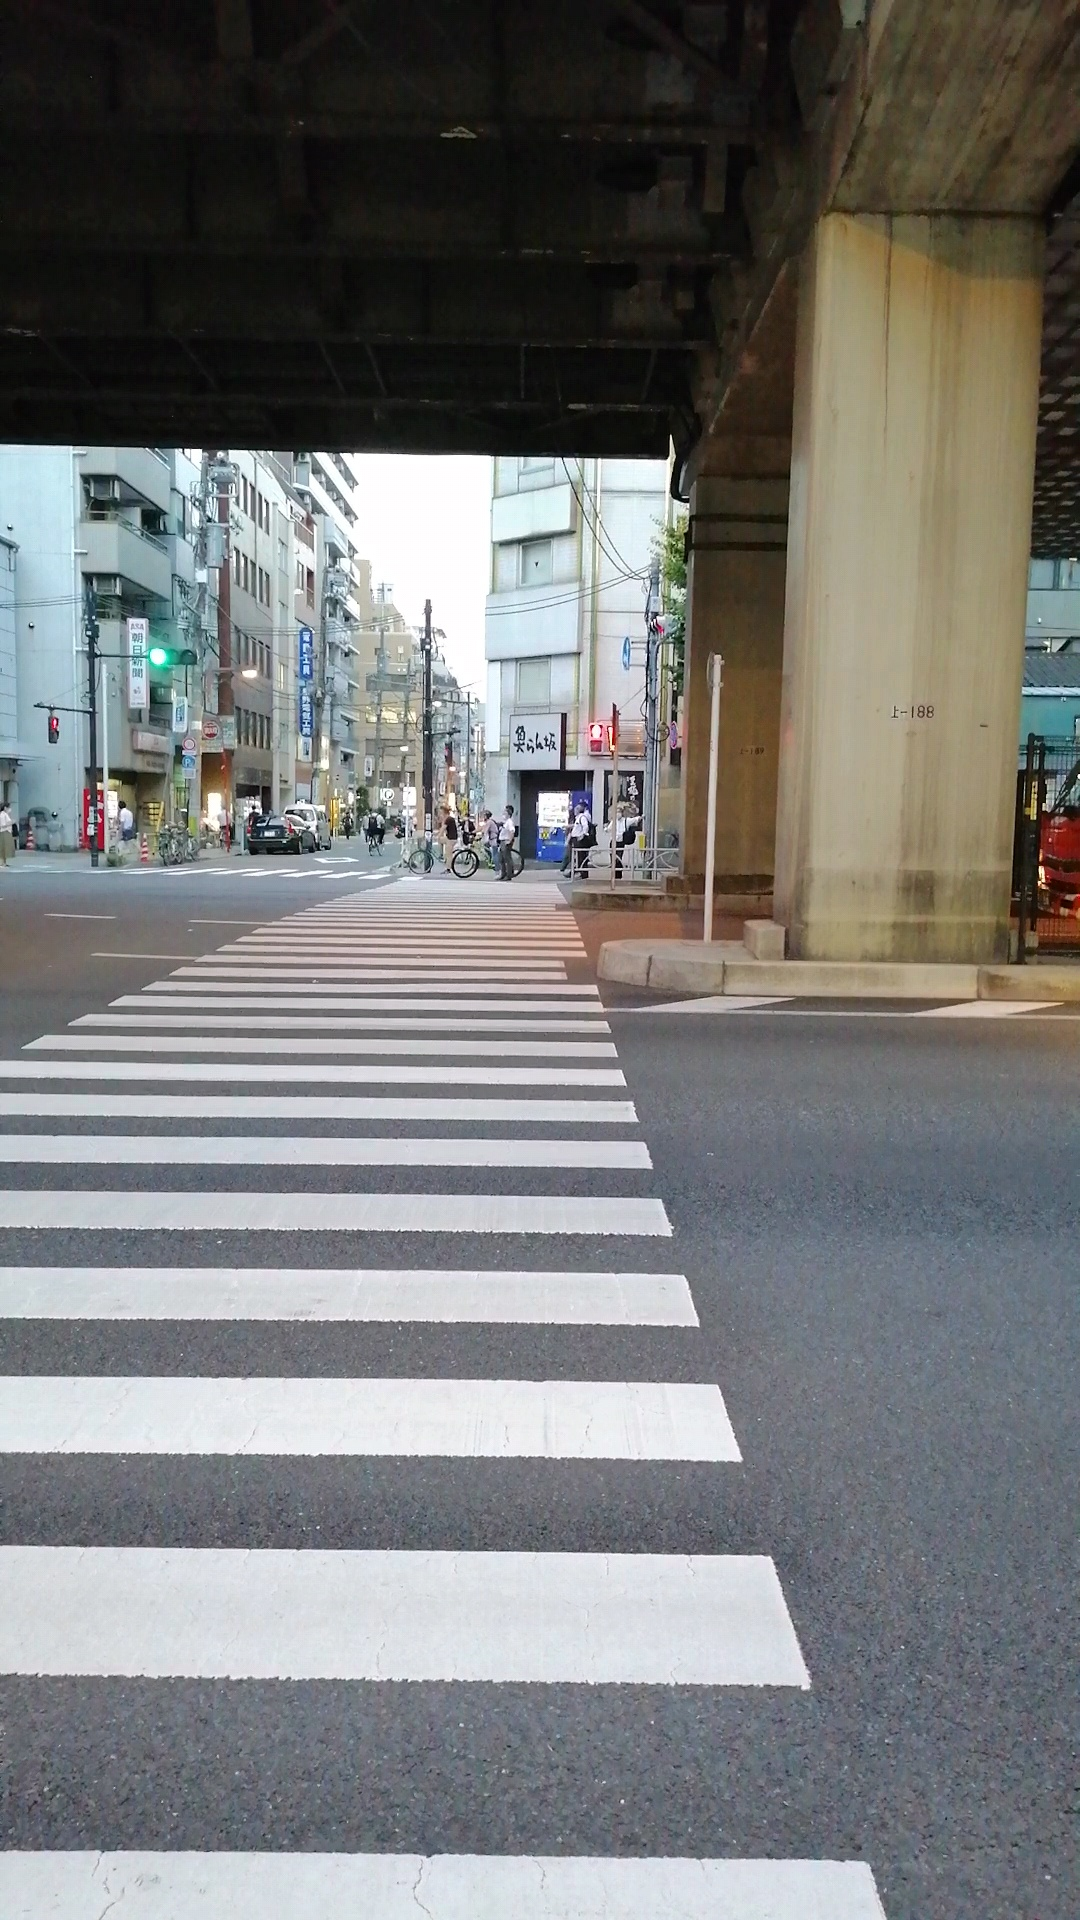red: (585, 723, 605, 758)
